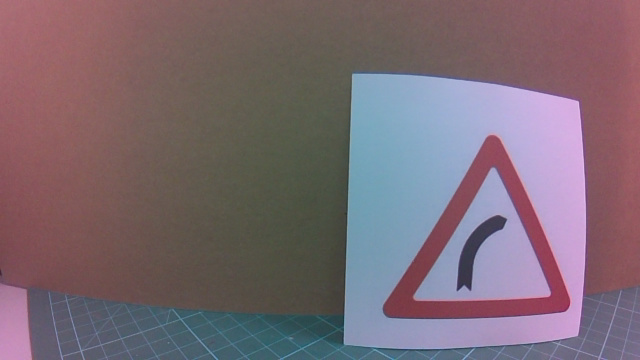right: (390, 159, 590, 335)
